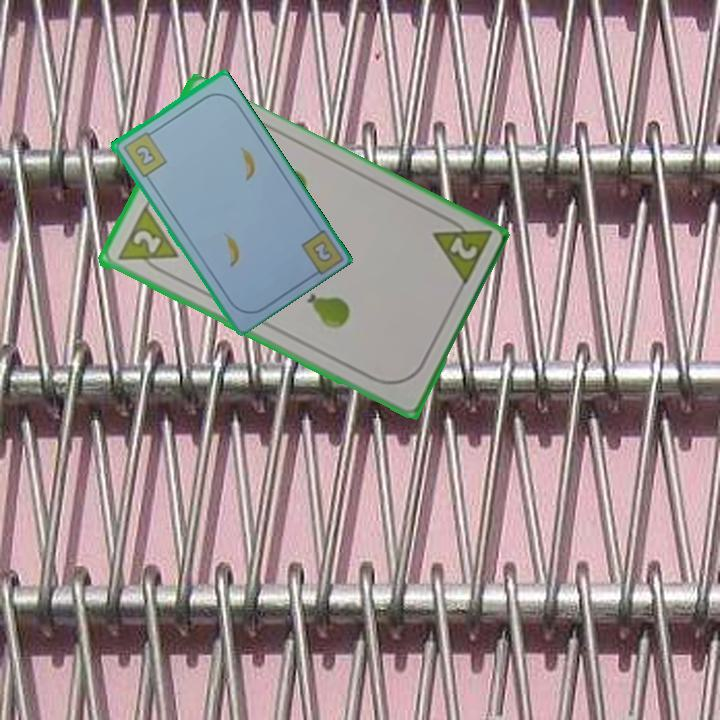2b: (119, 126, 169, 180), (308, 237, 336, 265)
2p: (428, 210, 494, 290), (128, 227, 164, 257)
